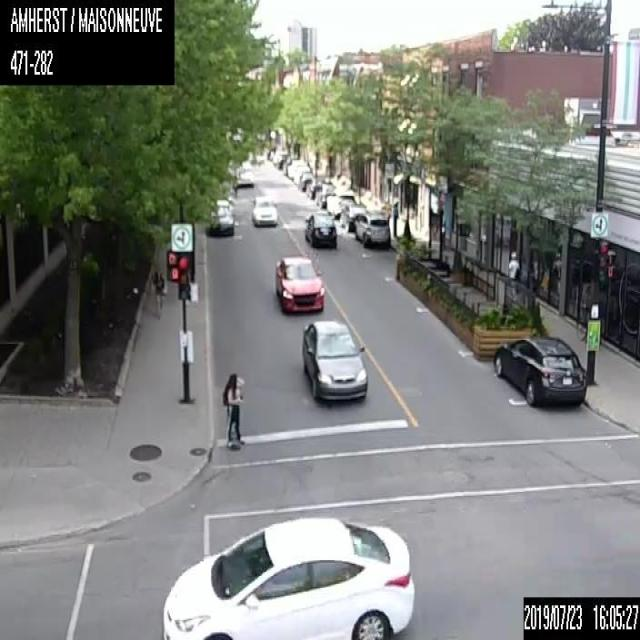pedestrian: (222, 372, 245, 448), (152, 270, 164, 318), (506, 249, 519, 280), (392, 199, 398, 236)
vehicle: (160, 514, 415, 638), (492, 333, 586, 407), (300, 317, 367, 403), (272, 253, 324, 312), (354, 210, 391, 248), (304, 211, 337, 247), (208, 199, 234, 236), (250, 193, 277, 226), (339, 201, 365, 232), (326, 189, 354, 216), (232, 160, 255, 188), (316, 187, 336, 205), (297, 170, 313, 190), (306, 181, 322, 198)
